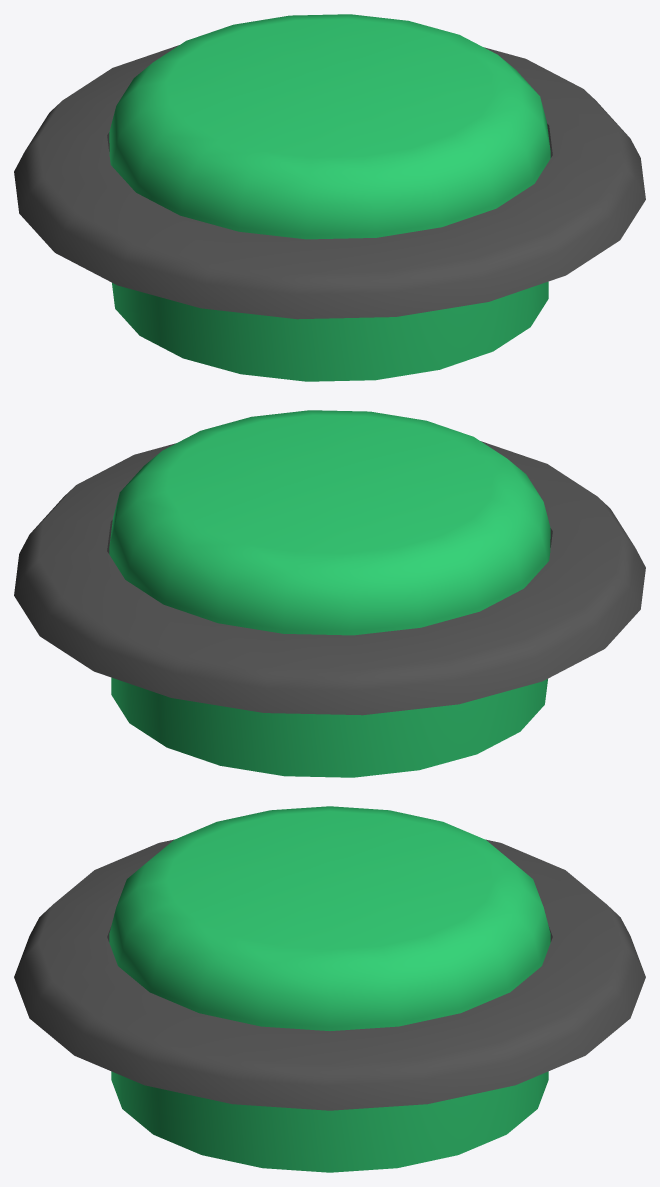
The model's file is button6_pressed.glb.
The picture shows the model from 3 angles, top to bottom: view 1: azimuth 30°, elevation 25°; view 2: azimuth 150°, elevation 25°; view 3: azimuth 270°, elevation 25°; orthographic projection.
Parts seen in each view (by area): view 1: SM_SimpleButton_B.001, SM_SimpleButton_Base_B.001; view 2: SM_SimpleButton_B.001, SM_SimpleButton_Base_B.001; view 3: SM_SimpleButton_B.001, SM_SimpleButton_Base_B.001.
Boxes of the visible parts, box(x1,y1,x2,y2) form: SM_SimpleButton_B.001: box(109, 14, 550, 381); SM_SimpleButton_Base_B.001: box(14, 45, 645, 319); SM_SimpleButton_B.001: box(109, 410, 550, 777); SM_SimpleButton_Base_B.001: box(14, 441, 645, 715); SM_SimpleButton_B.001: box(109, 806, 550, 1172); SM_SimpleButton_Base_B.001: box(14, 839, 645, 1110).
Size of the model in its own units: 24.07 by 8.4 by 24.07.
